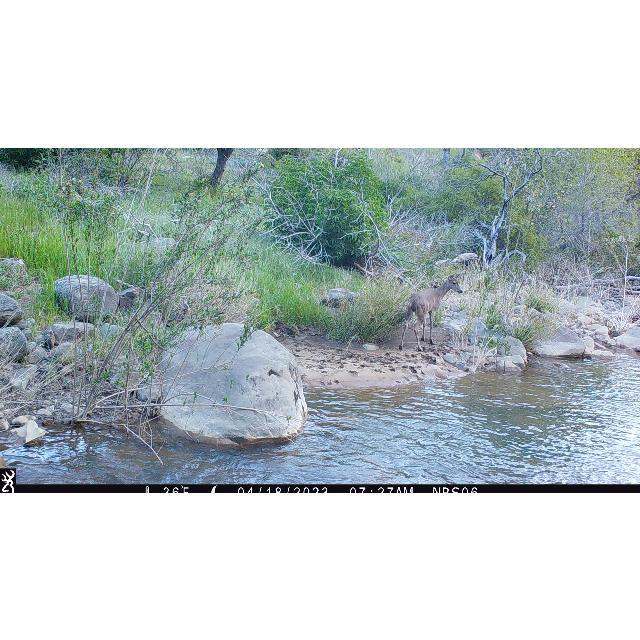animals: (398, 272, 466, 352)
